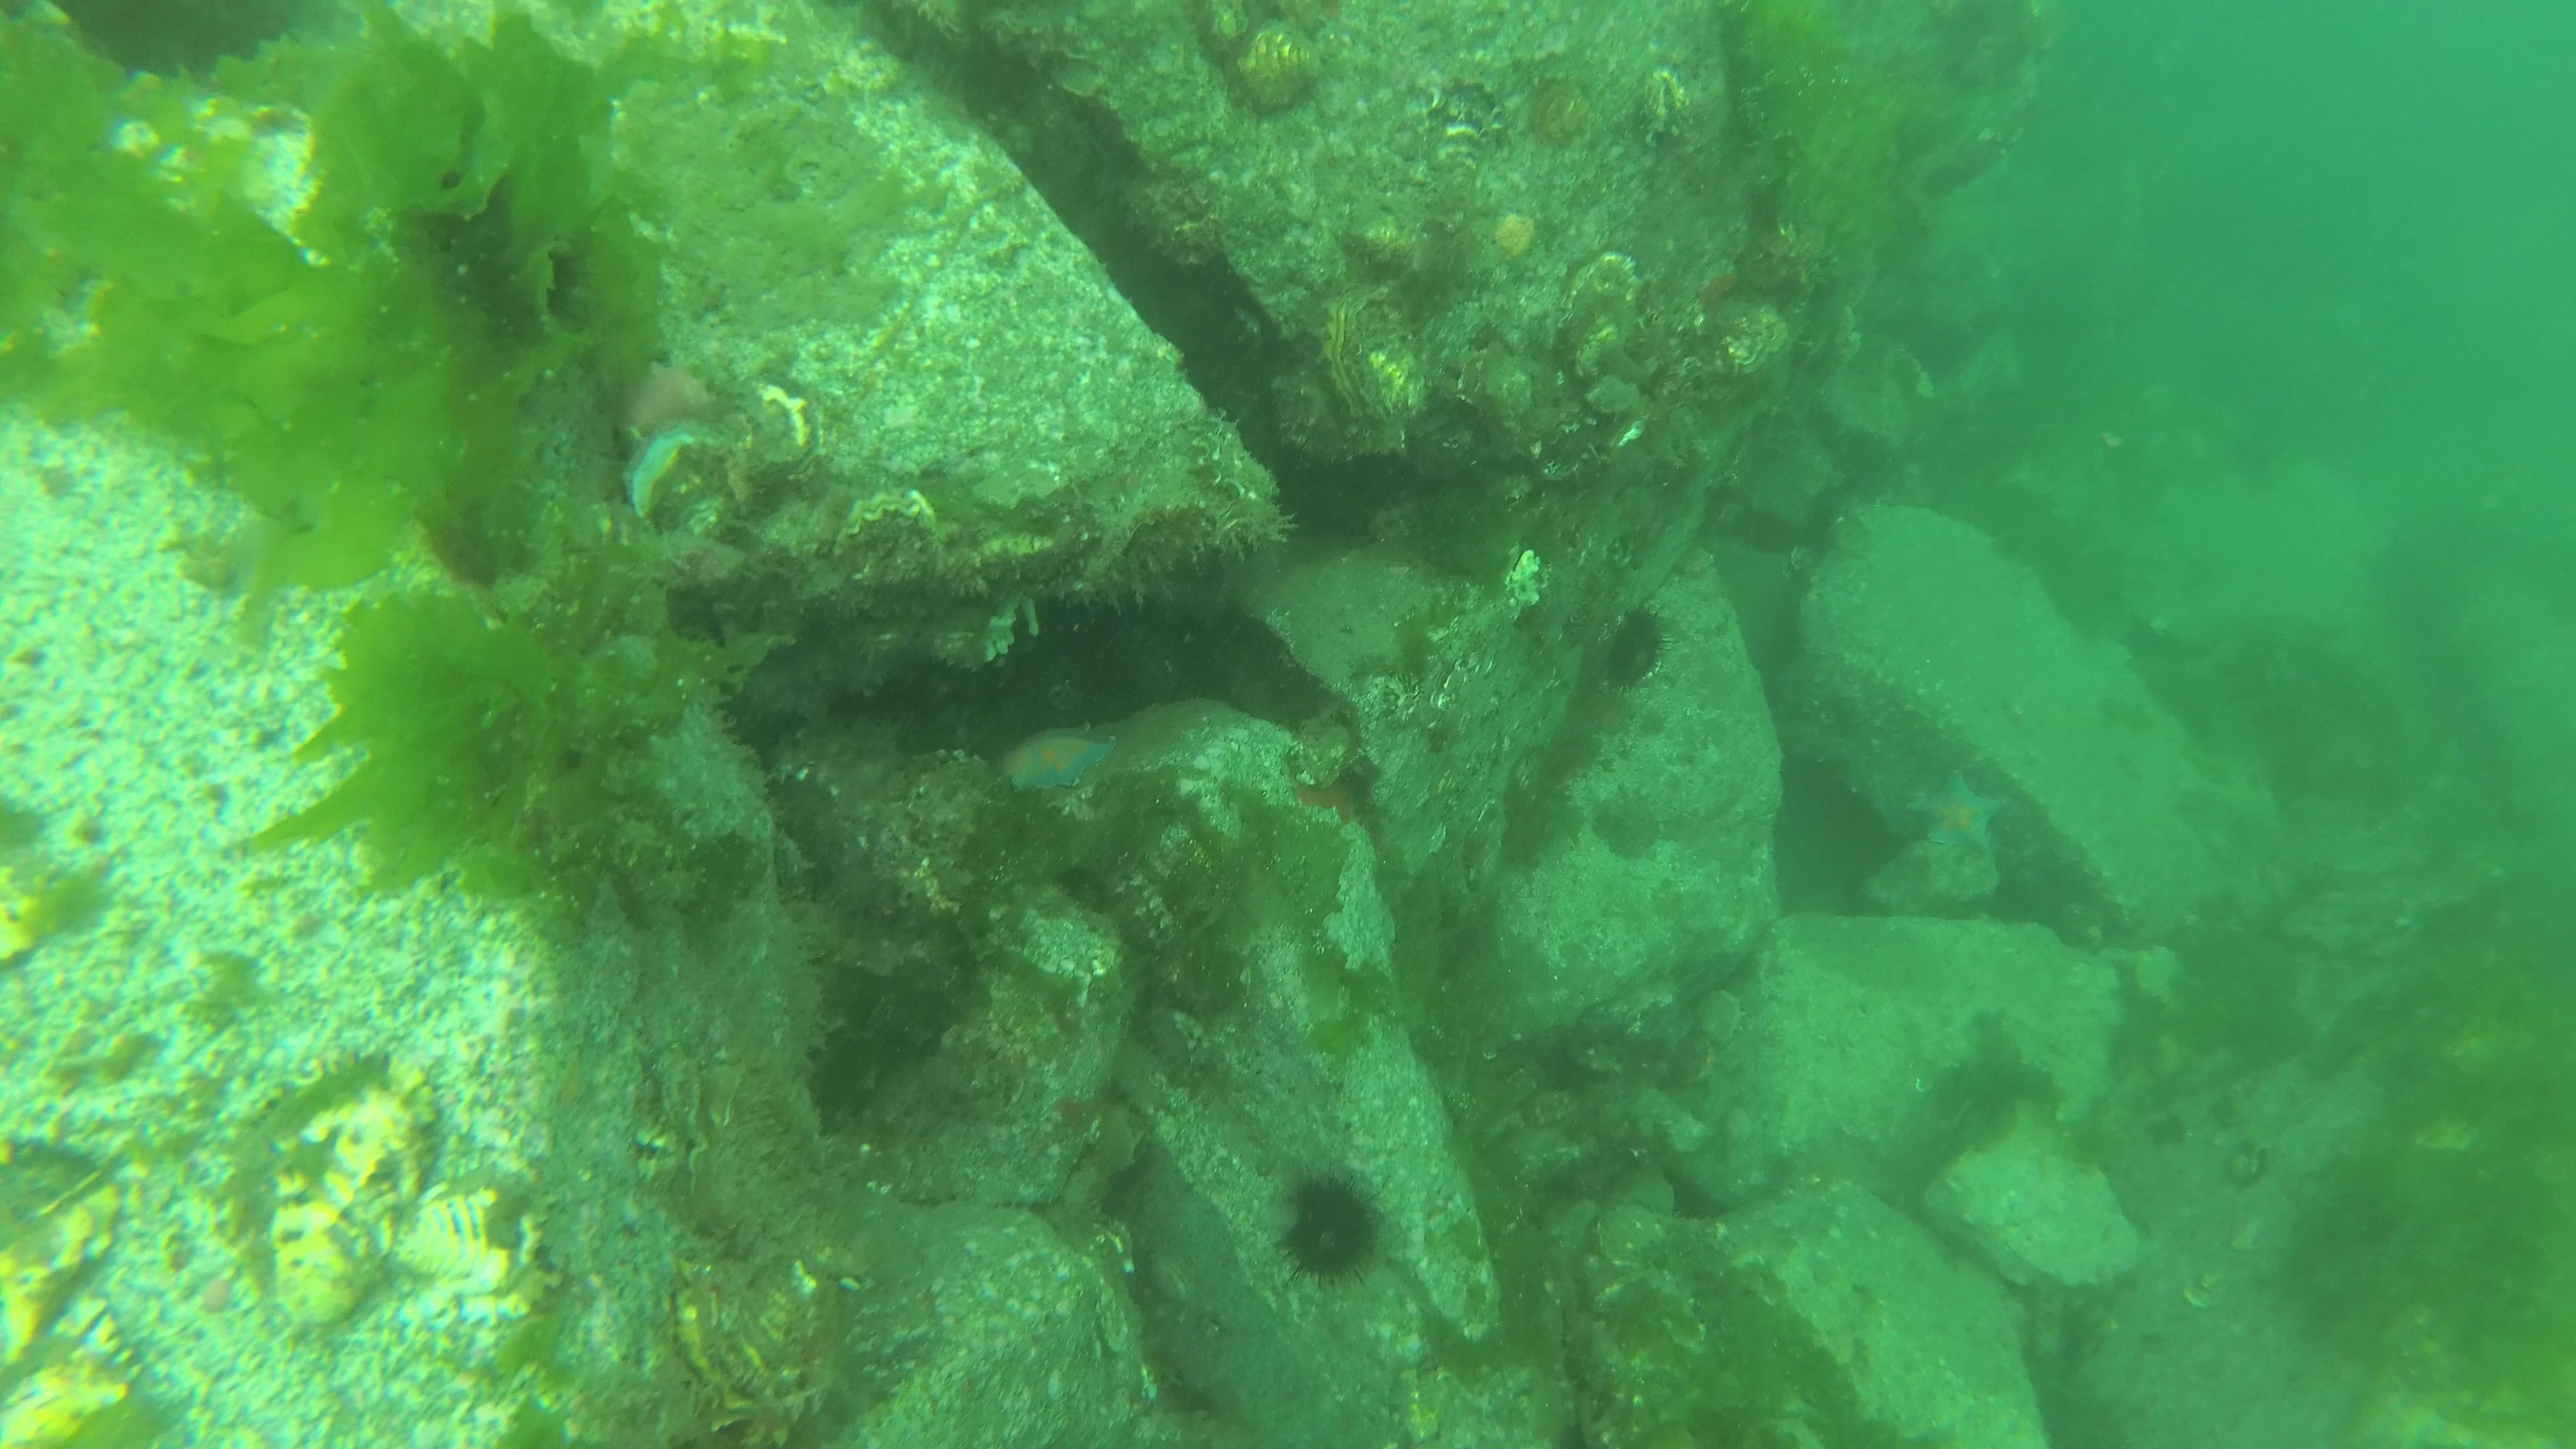echinus: (426, 165, 598, 350), (1272, 1169, 1385, 1293), (1605, 596, 1677, 697)
starfish: (1904, 766, 2012, 853), (994, 720, 1120, 793)
